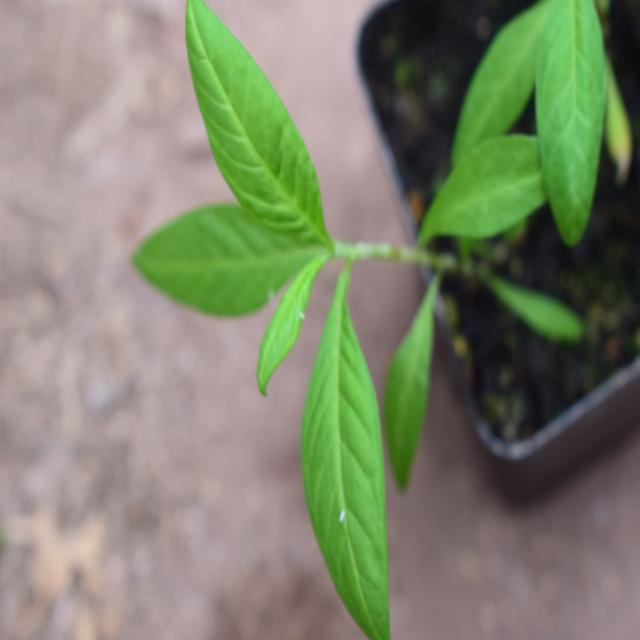white_smart_weed: (137, 1, 445, 635)
